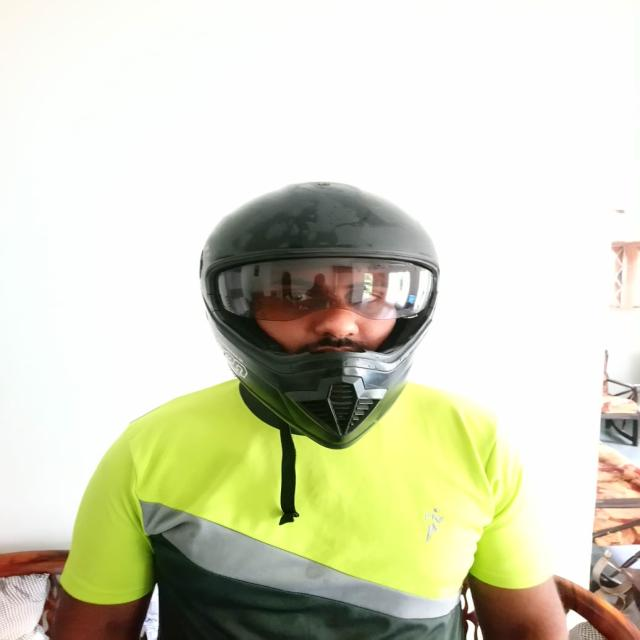With Helmet: (197, 180, 440, 448)
